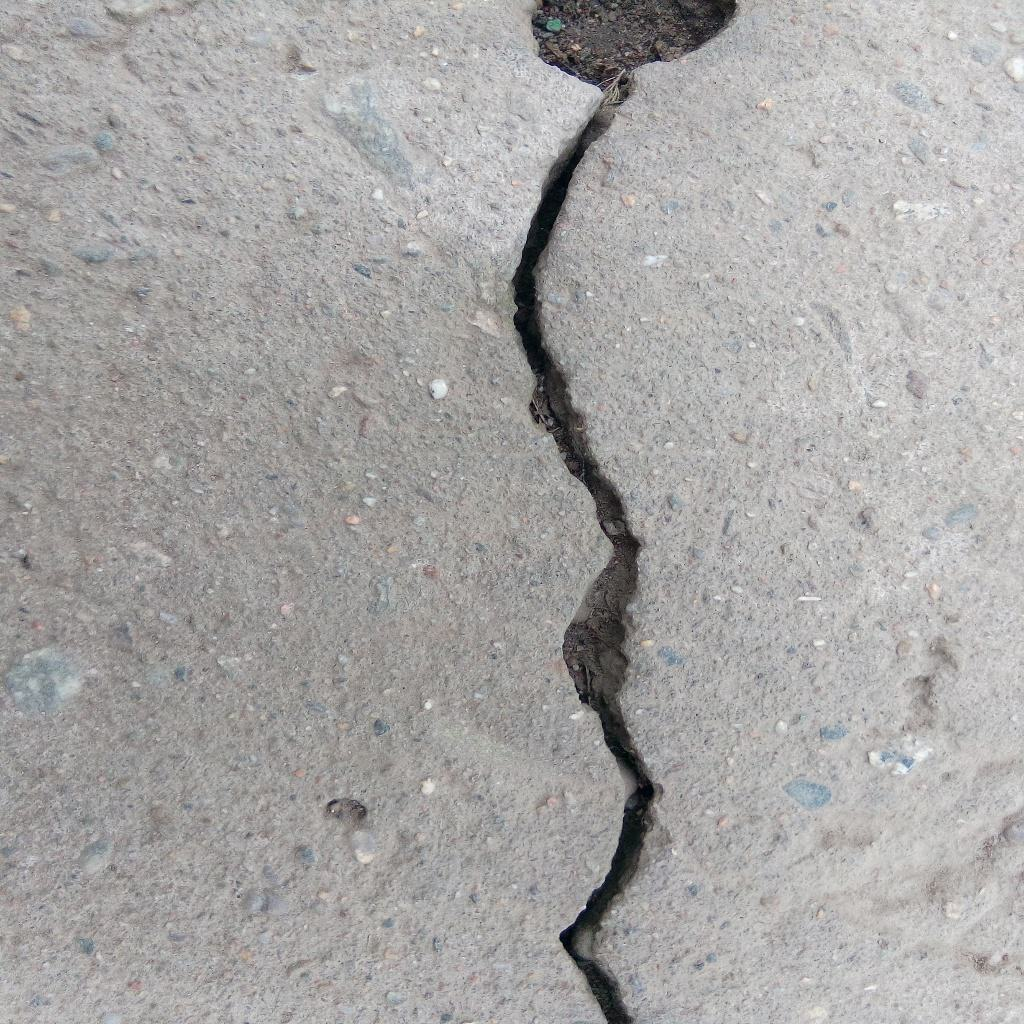Crack: (509, 98, 659, 1024)
Spalling: (529, 1, 739, 99)
